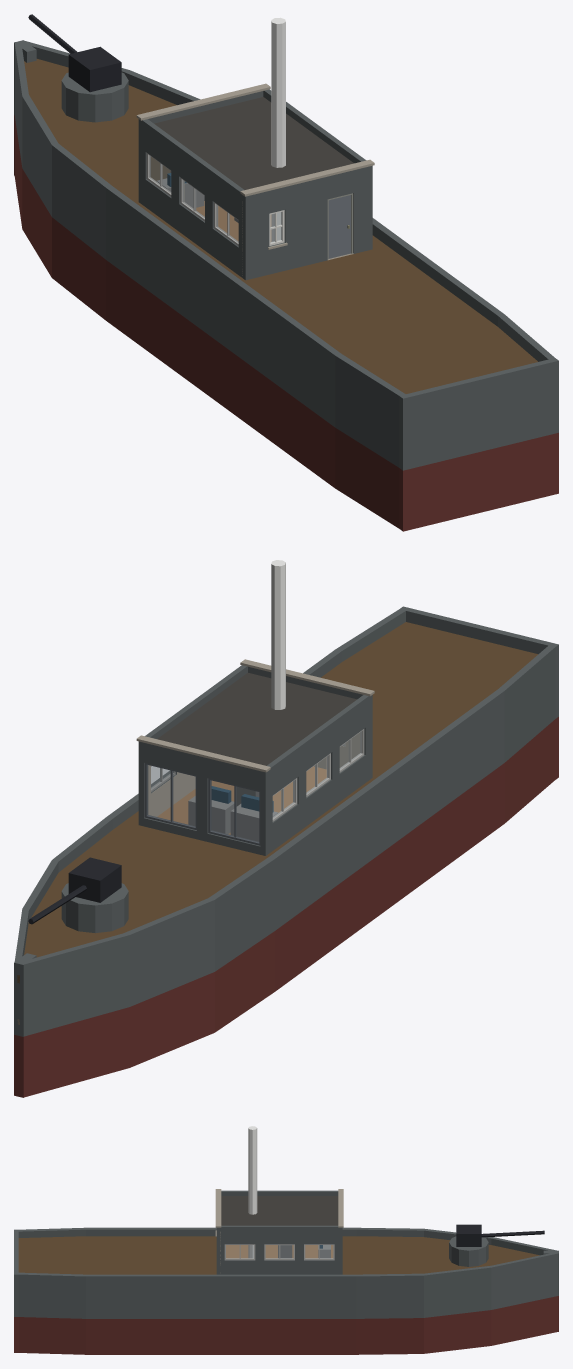
Rendered from gunboat.glb.
3 renders of one model, top to bottom at view 1: azimuth 30°, elevation 25°; view 2: azimuth 150°, elevation 25°; view 3: azimuth 270°, elevation 25°, orthographic. The views are drawn at different scales.
Visible parts, largest first — view 1: LOD0, LEAF0; view 2: LOD0, FURN; view 3: LOD0, FURN.
Part boxes in pixels (bbox=[...]): LOD0: bbox=[14, 14, 558, 531]; LEAF0: bbox=[328, 195, 350, 258]; LOD0: bbox=[14, 560, 558, 1097]; FURN: bbox=[188, 786, 278, 841]; LOD0: bbox=[14, 1126, 558, 1354]; FURN: bbox=[278, 1245, 330, 1258].
Size of what is drawn, in the model's own units: 6.4 by 12.4 by 30.25.
